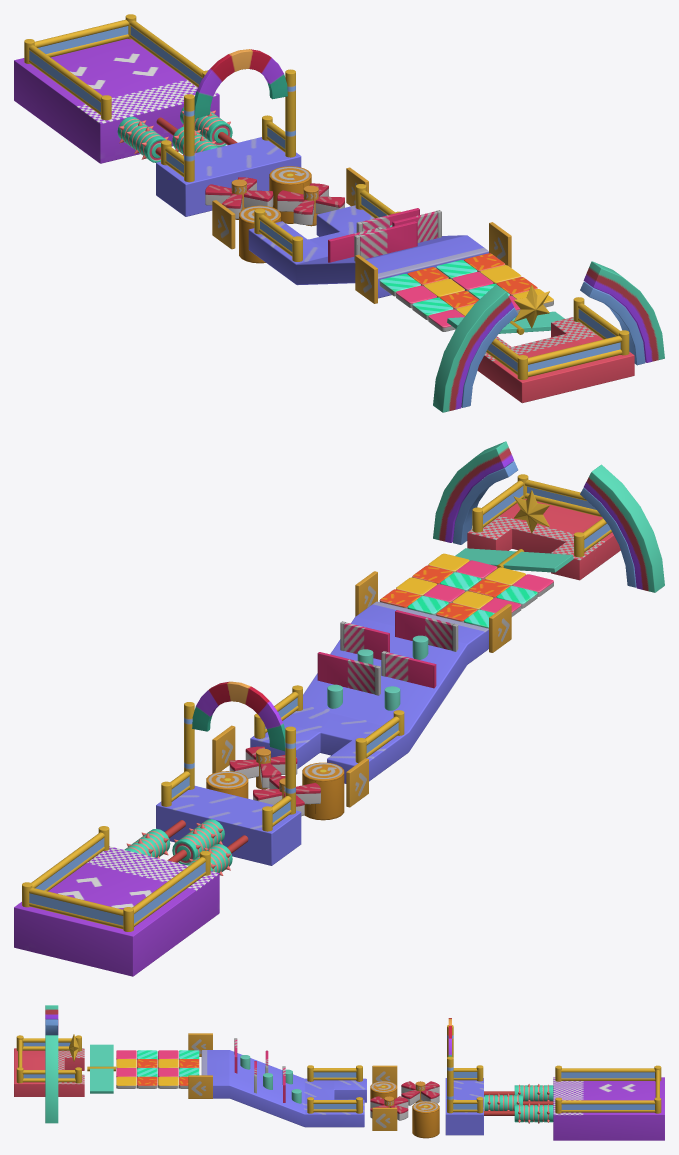
The model's file is 第一场景06.fbx.
3 views of the same model, one above another, from view 1: azimuth 30°, elevation 25°; view 2: azimuth 150°, elevation 25°; view 3: azimuth 270°, elevation 25° (orthographic). The views are drawn at different scales.
Parts seen in each view (by area): view 1: pingtai02, chushipingtai, 彩虹, 七彩板, 中间平台, 对象001, 起始平台, 终点, 旋转风扇 (×2), 提示牌, 中间平台02, 活动门005 (+10 smaller); view 2: pingtai02, chushipingtai, 彩虹, 七彩板, 起始平台, 中间平台, 对象001, 提示牌, 终点, 旋转风扇 (×2), 中间平台02, 圆柱01 (+10 smaller); view 3: pingtai02, chushipingtai, 七彩板, 起始平台, 提示牌, 对象001, 彩虹, 中间平台02, 终点, 中间平台, 旋转风扇 (×2), 跷跷板 (+5 smaller).
Boxes of the visible parts, x1,y1,x2,y2 form: pingtai02: [156, 137, 488, 298]; chushipingtai: [14, 38, 219, 163]; 彩虹: [433, 261, 664, 412]; 七彩板: [379, 253, 553, 331]; 中间平台: [161, 49, 295, 182]; 对象001: [477, 317, 634, 403]; 起始平台: [24, 14, 207, 120]; 终点: [486, 297, 629, 379]; 旋转风扇 (×2): [205, 177, 344, 226]; 提示牌: [212, 167, 511, 303]; 中间平台02: [254, 184, 400, 261]; 活动门005: [354, 221, 417, 261]; pingtai02: [156, 601, 488, 865]; chushipingtai: [14, 846, 219, 976]; 彩虹: [433, 441, 664, 592]; 七彩板: [379, 553, 553, 628]; 起始平台: [22, 826, 210, 931]; 中间平台: [161, 681, 295, 831]; 对象001: [467, 499, 620, 580]; 提示牌: [212, 571, 511, 807]; 终点: [472, 474, 611, 557]; 旋转风扇 (×2): [229, 746, 320, 816]; 中间平台02: [254, 685, 404, 762]; 圆柱01: [302, 762, 344, 820]; pingtai02: [201, 1050, 483, 1135]; chushipingtai: [553, 1077, 664, 1140]; 七彩板: [116, 1050, 199, 1088]; 起始平台: [555, 1065, 661, 1113]; 提示牌: [188, 1033, 397, 1130]; 对象001: [14, 1048, 84, 1096]; 彩虹: [45, 1005, 58, 1123]; 中间平台02: [307, 1065, 362, 1113]; 终点: [16, 1035, 81, 1083]; 中间平台: [447, 1018, 483, 1113]; 旋转风扇 (×2): [370, 1081, 439, 1120]; 跷跷板: [87, 1044, 115, 1093].
Size of the model in its own units: 1910 by 1306 by 7512.
Materials: 6 (6 with a texture image).
